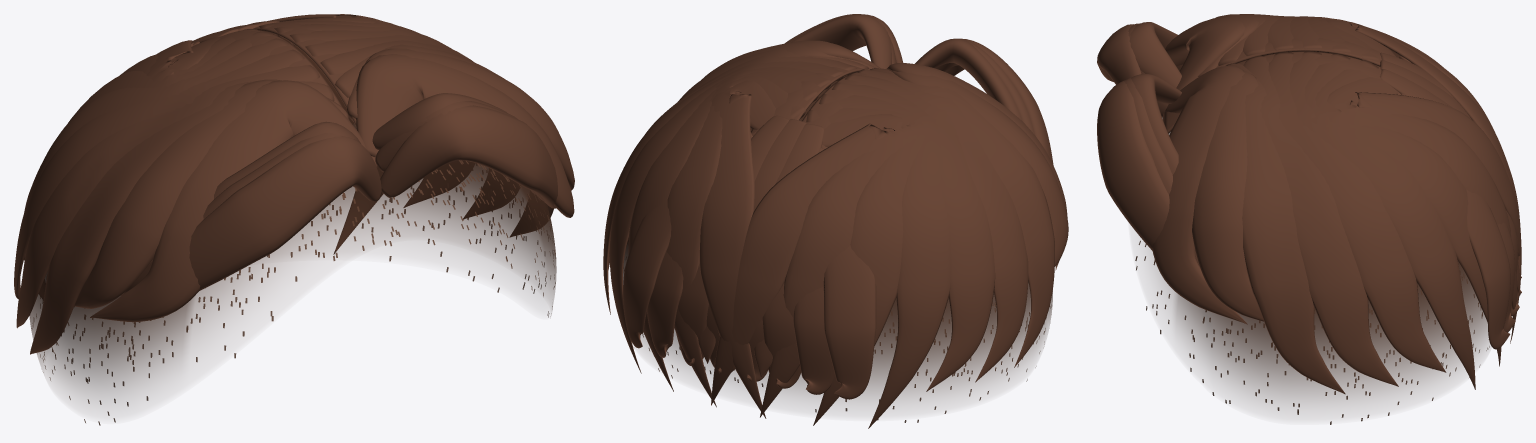
Rendered from Masculine-middle-part-tank-pashmina250-hair.glb.
3 views of the same model, side by side, from view 1: azimuth 30°, elevation 25°; view 2: azimuth 150°, elevation 25°; view 3: azimuth 270°, elevation 25° (orthographic). The views are drawn at different scales.
Visible parts, largest first — view 1: 226 hair / Hair / chestnut226.001, 226 hair / Hair / neutral coverage235.002, 226 hair / Hair / cut grain235.002; view 2: 226 hair / Hair / chestnut226.001, 226 hair / Hair / neutral coverage235.002, 226 hair / Hair / cut grain235.002; view 3: 226 hair / Hair / chestnut226.001, 226 hair / Hair / neutral coverage235.002, 226 hair / Hair / cut grain235.002.
Part boxes in pixels (x1=…): 226 hair / Hair / chestnut226.001: x1=14, y1=14, x2=574, y2=354; 226 hair / Hair / neutral coverage235.002: x1=29, y1=34, x2=556, y2=404; 226 hair / Hair / cut grain235.002: x1=29, y1=105, x2=556, y2=425; 226 hair / Hair / chestnut226.001: x1=603, y1=14, x2=1068, y2=428; 226 hair / Hair / neutral coverage235.002: x1=623, y1=75, x2=1052, y2=406; 226 hair / Hair / cut grain235.002: x1=625, y1=238, x2=1051, y2=422; 226 hair / Hair / chestnut226.001: x1=1097, y1=14, x2=1521, y2=394; 226 hair / Hair / neutral coverage235.002: x1=1146, y1=117, x2=1490, y2=408; 226 hair / Hair / cut grain235.002: x1=1135, y1=117, x2=1489, y2=424.
Bounding box in the file's own units: 1.03 × 0.6347 × 0.8572.
